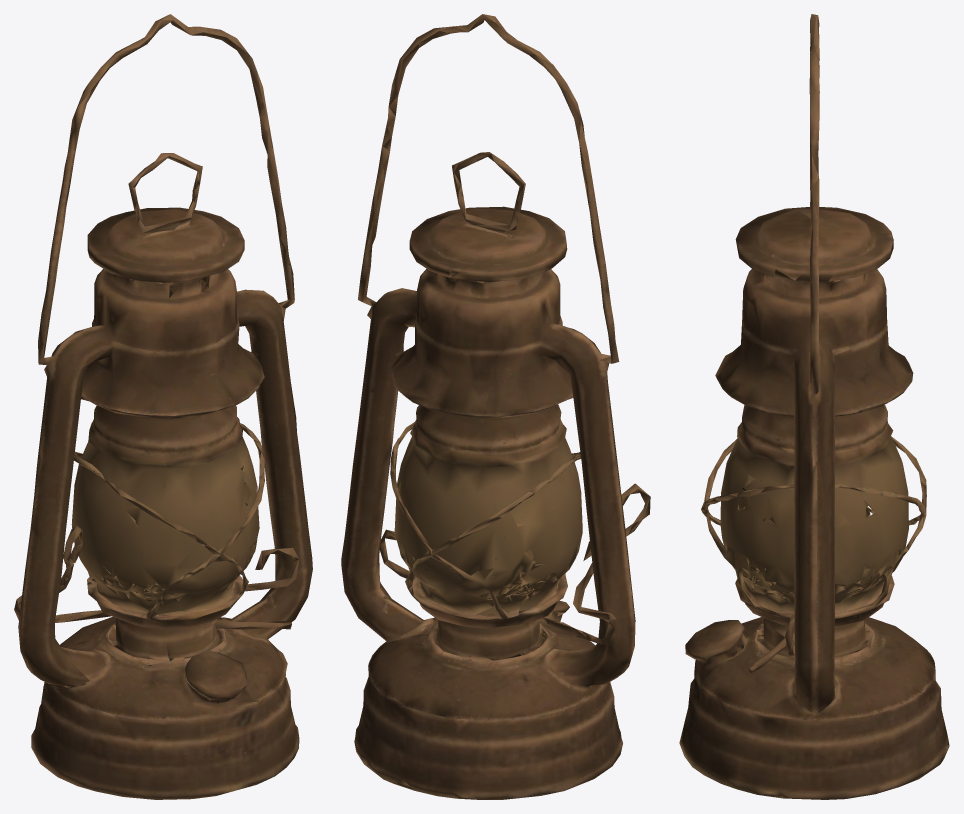
Rendered from lantern_final.glb.
The picture shows the model from 3 angles, left to right: view 1: azimuth 30°, elevation 25°; view 2: azimuth 150°, elevation 25°; view 3: azimuth 270°, elevation 25°; orthographic projection.
Visible parts, largest first — view 1: SM_Lantern; view 2: SM_Lantern; view 3: SM_Lantern.
Boxes of the visible parts, bbox=[...] form: SM_Lantern: bbox=[14, 14, 312, 799]; SM_Lantern: bbox=[341, 14, 650, 799]; SM_Lantern: bbox=[679, 14, 949, 799].
Size of the model in its own units: 0.1597 by 0.3807 by 0.1279.
Materials: 1 (1 with a texture image).
